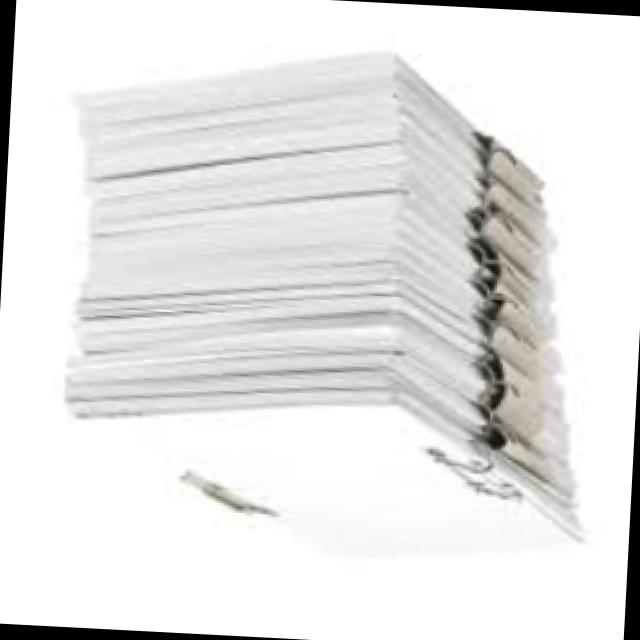KertasBekas: (49, 36, 610, 571)
